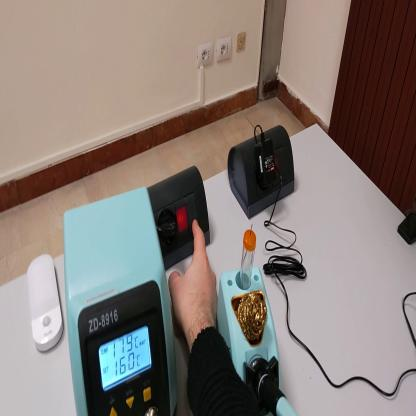hand: (168, 219, 220, 338)
socket: (148, 165, 211, 270), (229, 122, 294, 220)
welder base: (220, 228, 283, 395)
welder probe tip: (259, 378, 297, 414)
welder station: (62, 184, 179, 415)
